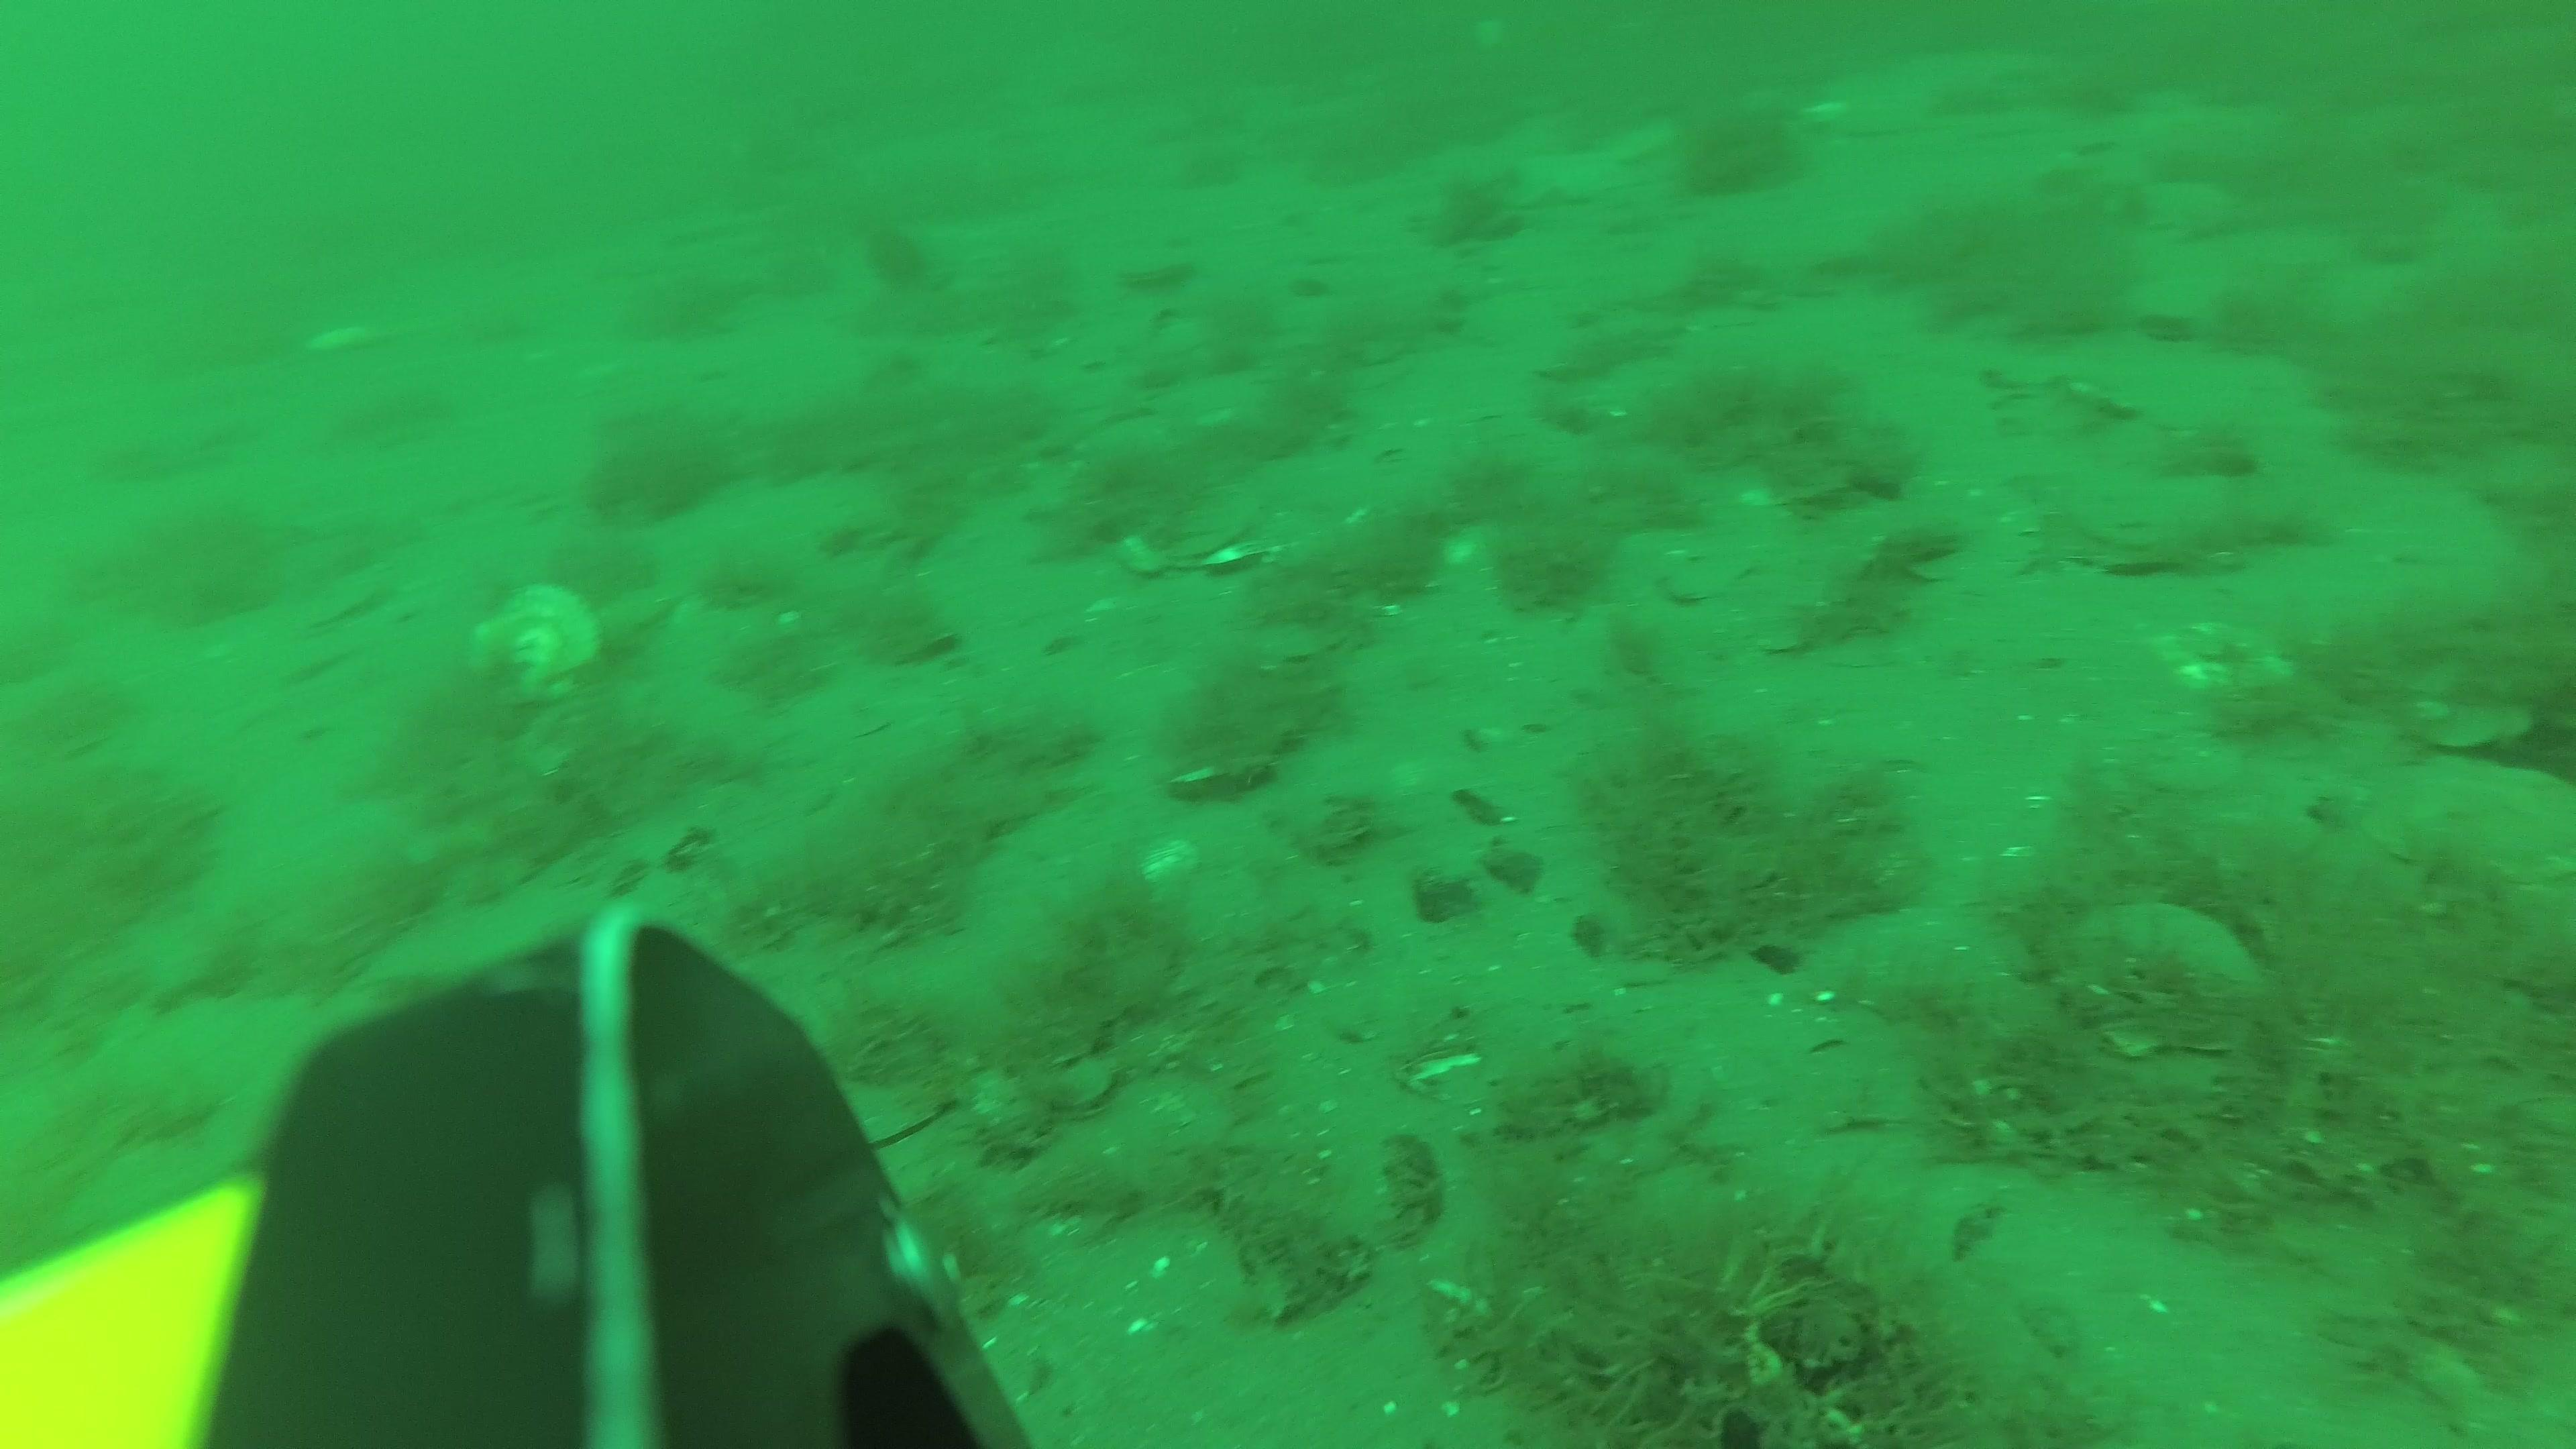scallop: (2051, 901, 2265, 1054), (2373, 750, 2576, 883), (476, 591, 596, 697), (1118, 511, 1270, 577), (2132, 172, 2247, 234), (1109, 239, 1198, 287), (1610, 113, 1677, 156), (1474, 14, 1502, 50)
starfish: (1518, 147, 1640, 203)
